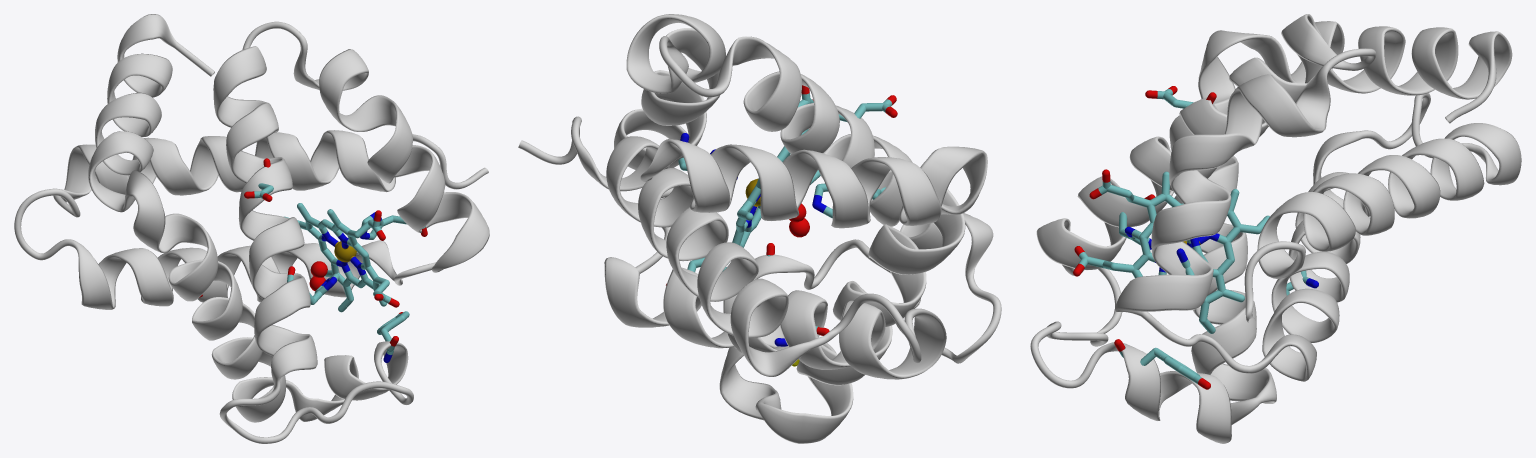
File: frame15.gltf
3 renders of one model, left to right at view 1: azimuth 30°, elevation 25°; view 2: azimuth 150°, elevation 25°; view 3: azimuth 270°, elevation 25°, orthographic. The views are drawn at different scales.
Visible parts, largest first — view 1: vmd_mol15_rep3, vmd_mol15_rep2, vmd_mol15_rep1; view 2: vmd_mol15_rep3, vmd_mol15_rep1, vmd_mol15_rep2; view 3: vmd_mol15_rep3, vmd_mol15_rep2, vmd_mol15_rep1.
Part boxes in pixels (left/top/right/bottom): vmd_mol15_rep3: left=14, top=14, right=489, bottom=443; vmd_mol15_rep2: left=284, top=203, right=399, bottom=312; vmd_mol15_rep1: left=199, top=158, right=427, bottom=362; vmd_mol15_rep3: left=518, top=14, right=1001, bottom=443; vmd_mol15_rep1: left=666, top=95, right=897, bottom=366; vmd_mol15_rep2: left=729, top=85, right=820, bottom=262; vmd_mol15_rep3: left=1030, top=14, right=1521, bottom=443; vmd_mol15_rep2: left=1073, top=169, right=1269, bottom=333; vmd_mol15_rep1: left=1114, top=86, right=1318, bottom=389.
Bounding box in the file's own units: 1.41 × 1.18 × 1.29.
